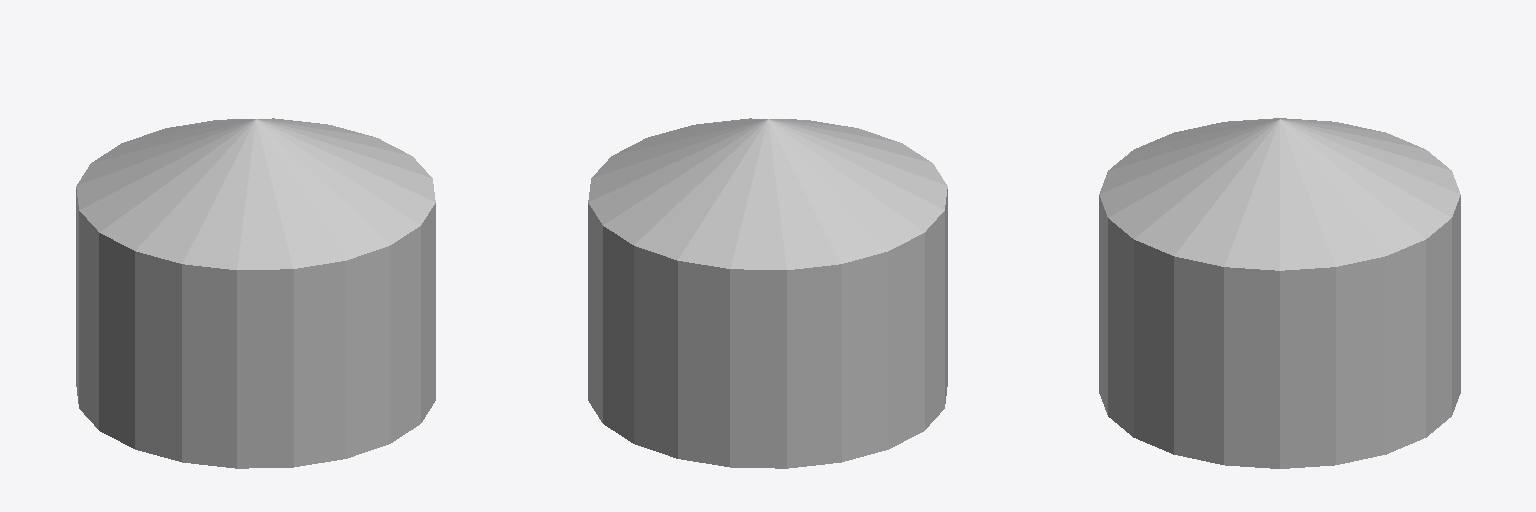
The model's file is block 3 final.obj.
3 views of the same model, side by side, from view 1: azimuth 30°, elevation 25°; view 2: azimuth 150°, elevation 25°; view 3: azimuth 270°, elevation 25° (orthographic).
Visible parts, largest first — view 1: pCone1; view 2: pCone1; view 3: pCone1.
Part boxes in pixels (left/top/right/bottom): pCone1: left=76, top=118, right=435, bottom=468; pCone1: left=588, top=118, right=947, bottom=468; pCone1: left=1099, top=118, right=1460, bottom=468.
Size of the model in its own units: 9.95 by 8.3 by 9.95.